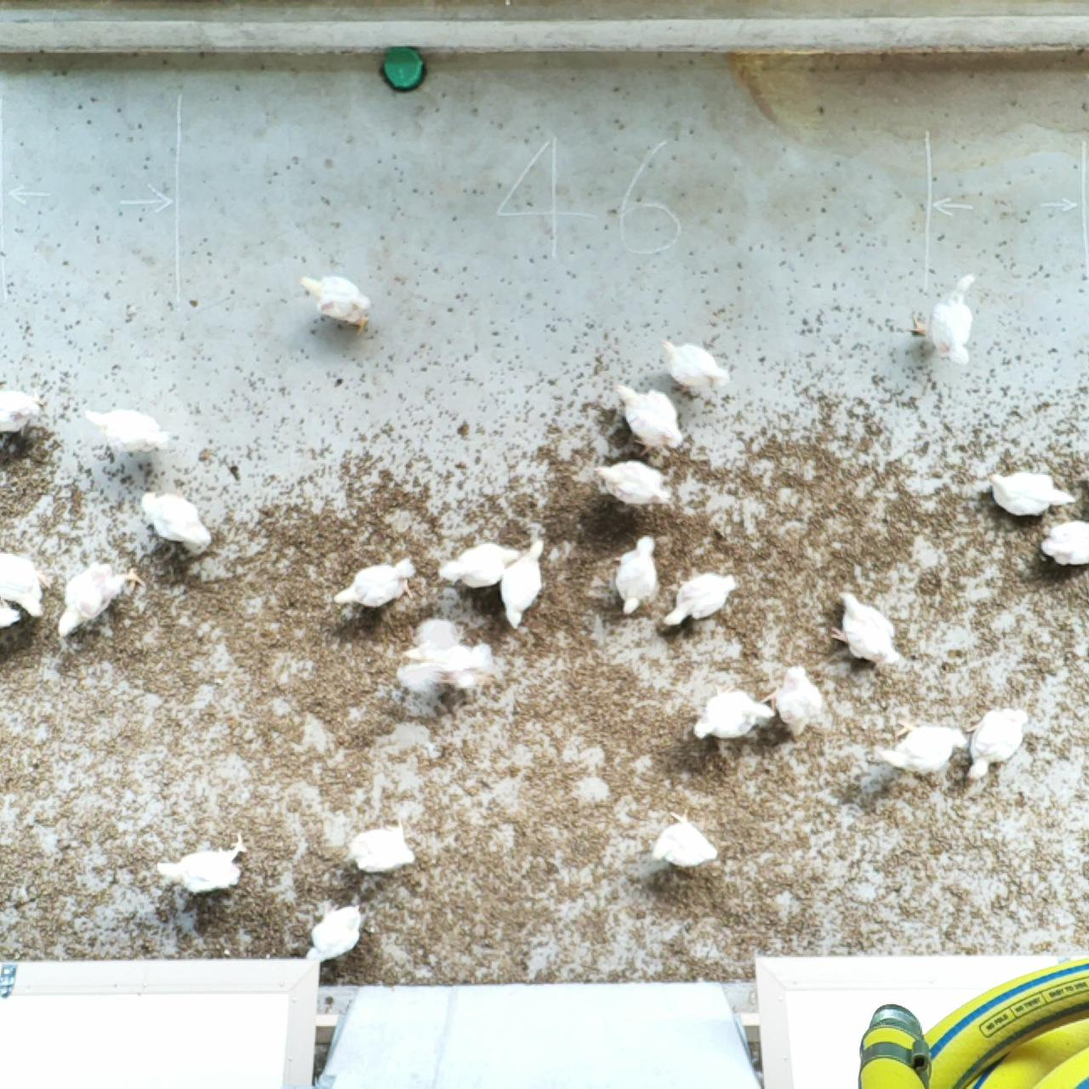chicken: (395, 617, 497, 697), (55, 559, 148, 640), (906, 269, 981, 369), (154, 830, 249, 903), (827, 588, 904, 672), (759, 660, 837, 739), (871, 714, 967, 777), (138, 485, 212, 561), (613, 381, 683, 459), (964, 703, 1033, 782), (658, 568, 741, 632), (656, 334, 733, 400), (691, 682, 778, 740), (83, 404, 178, 457), (586, 459, 676, 514), (0, 550, 55, 639), (501, 535, 553, 629), (438, 537, 529, 590), (985, 465, 1076, 517), (300, 902, 370, 969), (296, 271, 370, 333), (333, 556, 419, 609), (649, 806, 720, 870), (608, 532, 663, 614), (345, 815, 418, 874), (0, 382, 42, 441), (1039, 520, 1089, 567)
